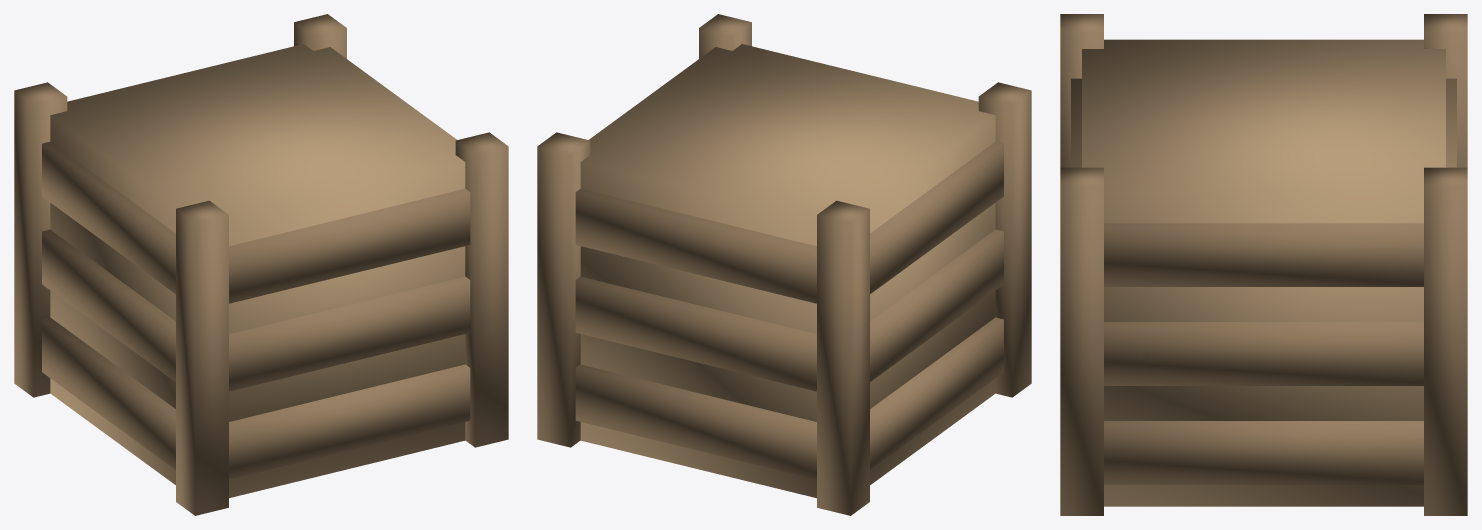
Rendered from crate.glb.
The picture shows the model from 3 angles, left to right: view 1: azimuth 30°, elevation 25°; view 2: azimuth 150°, elevation 25°; view 3: azimuth 270°, elevation 25°; orthographic projection. The views are drawn at different scales.
Visible parts, largest first — view 1: body, slats, posts; view 2: body, slats, posts; view 3: body, slats, posts.
Boxes of the visible parts, left/top/right/bottom form: body: left=50, top=44, right=465, bottom=498; slats: left=42, top=141, right=470, bottom=479; posts: left=14, top=14, right=508, bottom=515; body: left=580, top=44, right=995, bottom=498; slats: left=575, top=141, right=1003, bottom=479; posts: left=537, top=14, right=1031, bottom=515; body: left=1082, top=39, right=1445, bottom=506; slats: left=1071, top=78, right=1456, bottom=484; posts: left=1060, top=14, right=1467, bottom=515.
Bounding box in the file's own units: 1.12 × 1 × 1.12.
